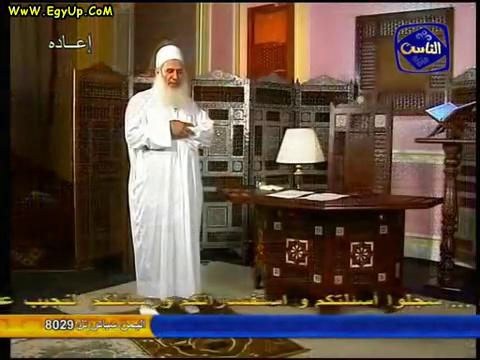qiyam: (123, 43, 215, 316)
